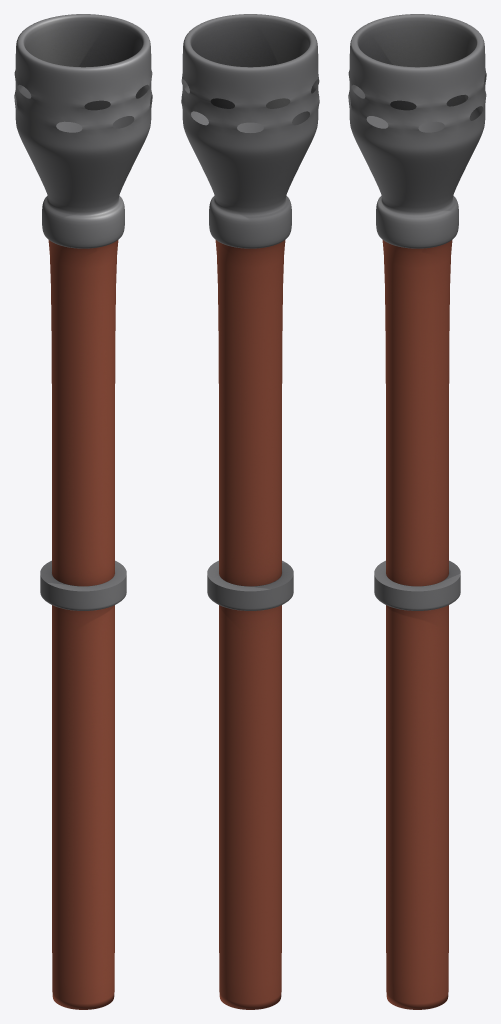
Rendered from cartoon_torch.glb.
3 renders of one model, left to right at view 1: azimuth 30°, elevation 25°; view 2: azimuth 210°, elevation 25°; view 3: azimuth 270°, elevation 25°, orthographic.
Parts seen in each view (by area): view 1: Object001_Object001_mtl_0; view 2: Object001_Object001_mtl_0; view 3: Object001_Object001_mtl_0.
Part boxes in pixels (left/top/right/bottom): Object001_Object001_mtl_0: left=14, top=14, right=152, bottom=1009; Object001_Object001_mtl_0: left=181, top=14, right=319, bottom=1009; Object001_Object001_mtl_0: left=348, top=14, right=486, bottom=1009.
Size of the model in its own units: 7.57 by 58.14 by 7.62.
1 material, 1 textured.
